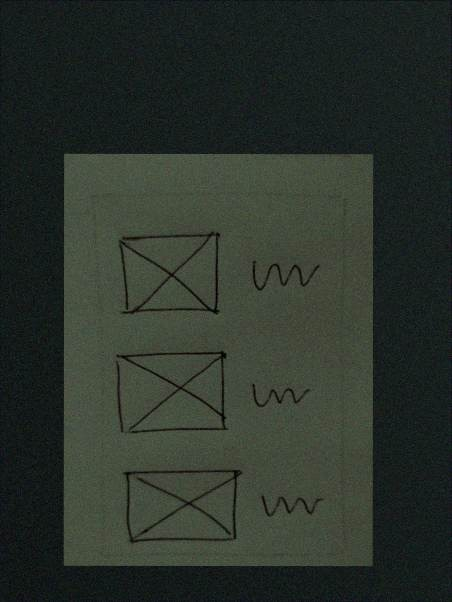image: (110, 346, 232, 441), (115, 464, 246, 549), (113, 229, 225, 326)
text: (246, 251, 323, 301), (259, 488, 331, 532), (251, 377, 315, 417)
